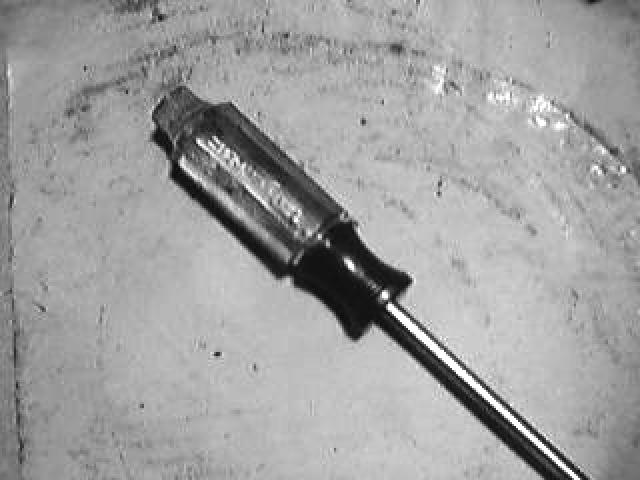Screwdriver: (152, 86, 588, 478)
